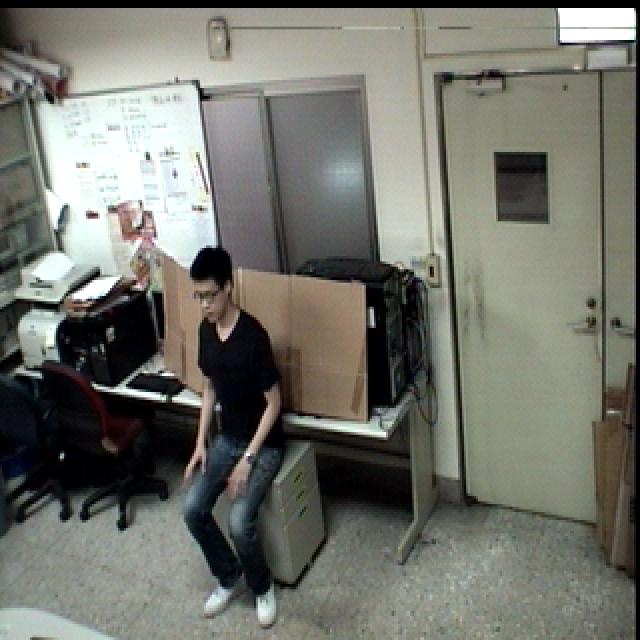sit: (168, 236, 295, 636)
